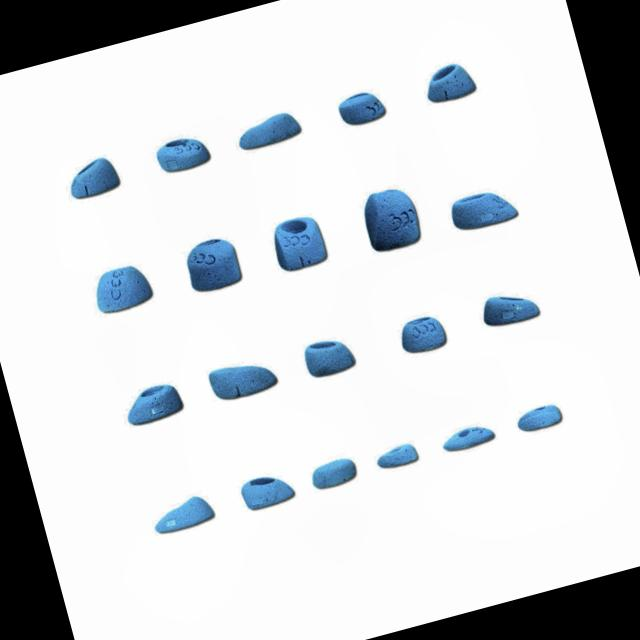Hold: (356, 179, 424, 258), (175, 230, 247, 298), (202, 352, 280, 406), (448, 182, 520, 238), (89, 260, 158, 317), (268, 212, 329, 276), (146, 124, 214, 180), (60, 149, 130, 202), (119, 374, 189, 427), (232, 106, 304, 155), (476, 282, 542, 335), (298, 327, 360, 381), (146, 494, 216, 538), (330, 81, 388, 130), (396, 308, 452, 358), (236, 467, 298, 512), (422, 60, 478, 109), (435, 422, 499, 456), (308, 455, 360, 493), (514, 402, 566, 434), (372, 439, 422, 472)
